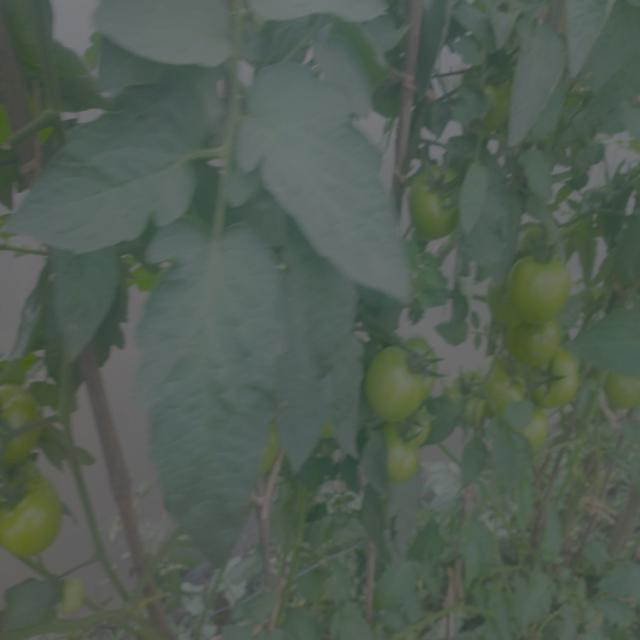tomato: (365, 333, 436, 420), (505, 241, 576, 321), (1, 483, 69, 562), (413, 162, 465, 244), (531, 355, 585, 414), (2, 390, 40, 470), (502, 317, 562, 363), (384, 428, 427, 483), (484, 359, 527, 409), (51, 576, 91, 627), (480, 70, 514, 122), (608, 372, 640, 411), (450, 372, 476, 406), (526, 421, 551, 452)
